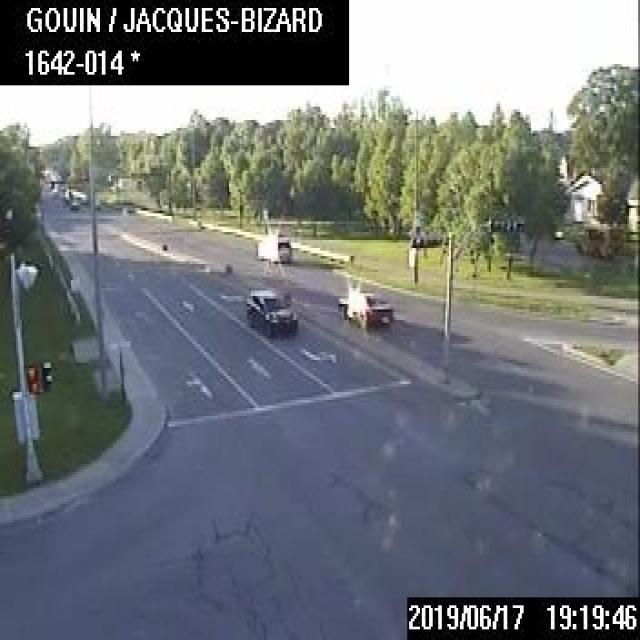bus: (573, 221, 622, 258)
vehicle: (245, 288, 296, 335), (337, 292, 391, 326), (256, 233, 289, 261), (62, 187, 86, 206)
